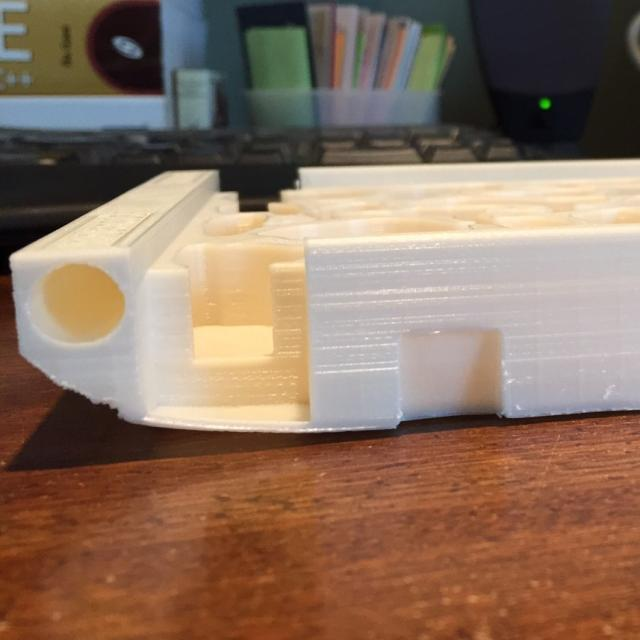Warping: (77, 399, 343, 454)
